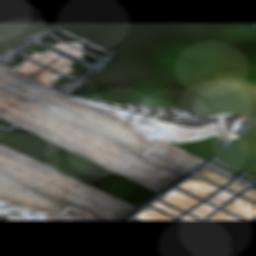Woodpecker: (41, 56, 256, 178)
